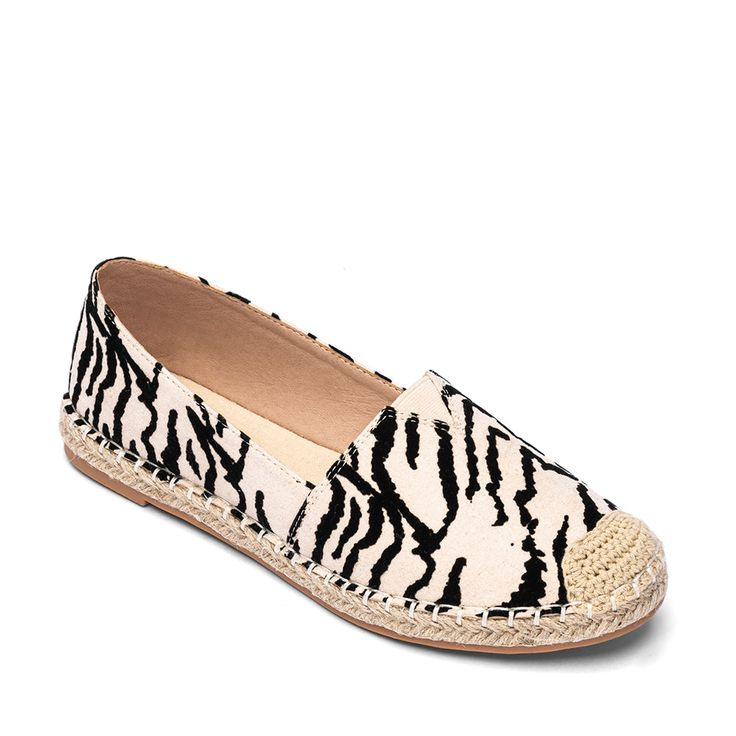gamuza: (63, 257, 618, 621)
